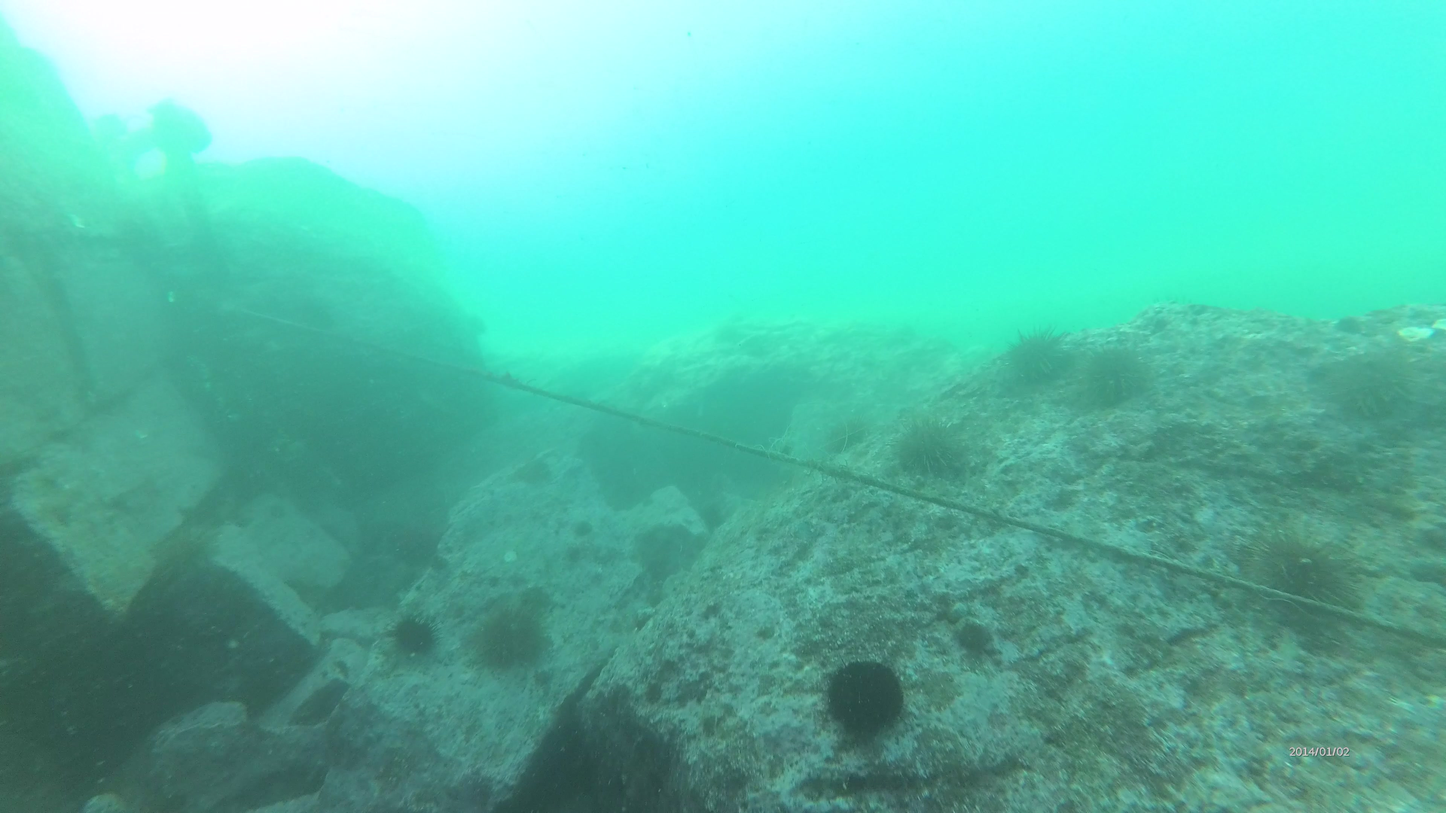starfish: (1252, 524, 1364, 610), (826, 660, 908, 738), (895, 417, 981, 489), (475, 609, 549, 674), (1001, 325, 1071, 387), (1085, 349, 1151, 408), (389, 612, 438, 656)
